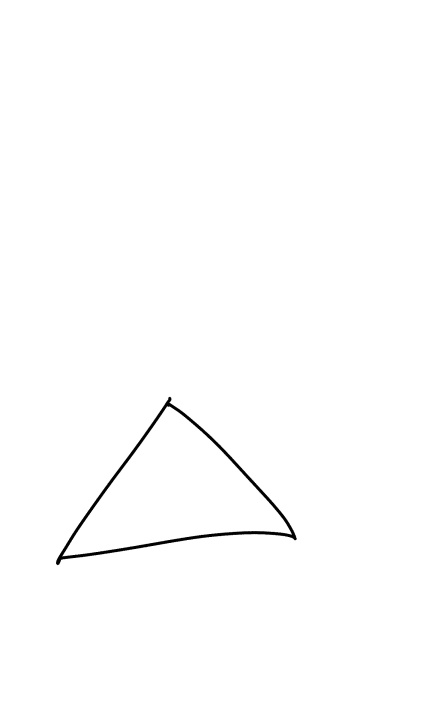Triangle: (46, 394, 304, 567)
